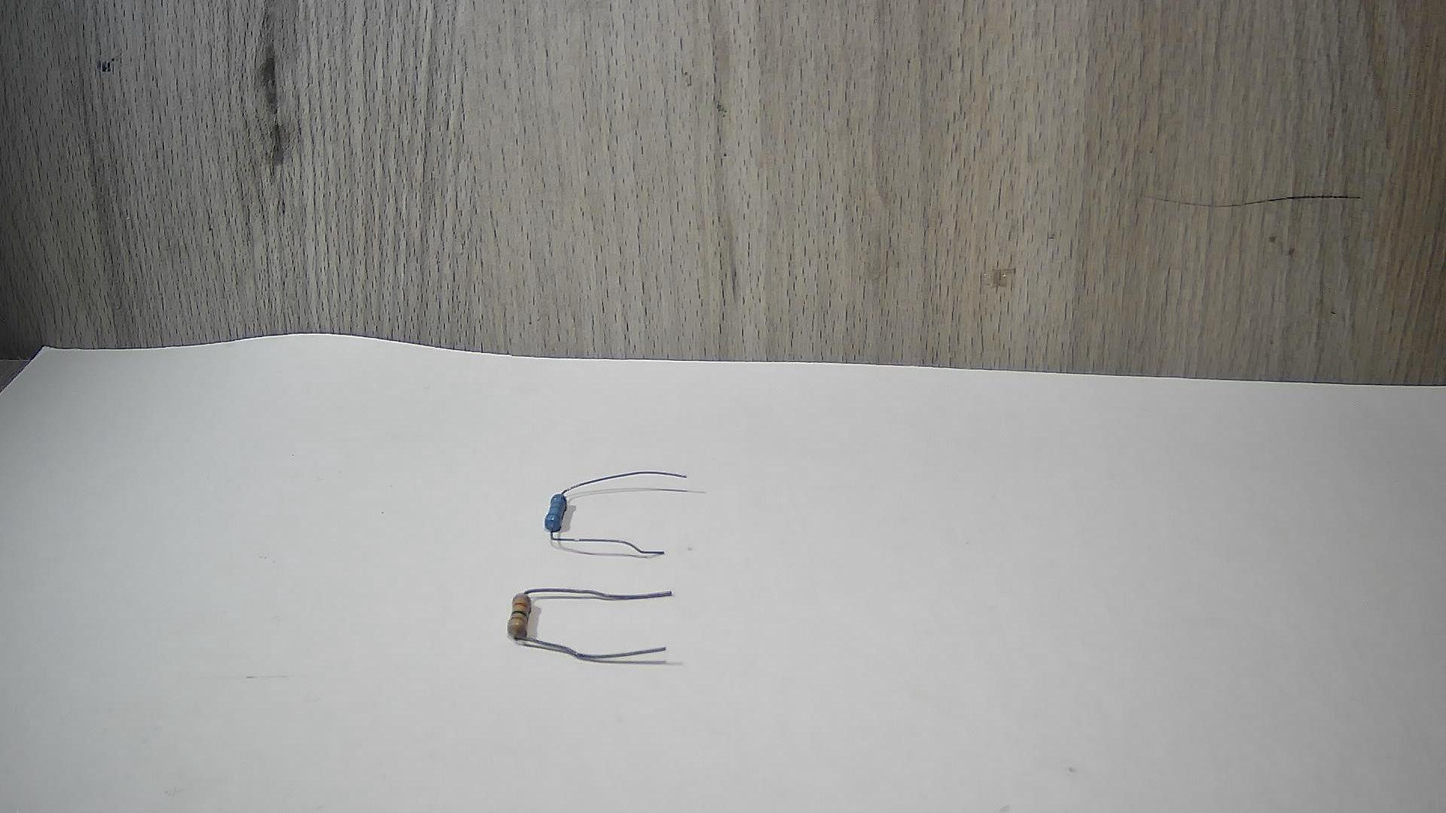Resistencia: (479, 565, 710, 688), (517, 454, 705, 567)
